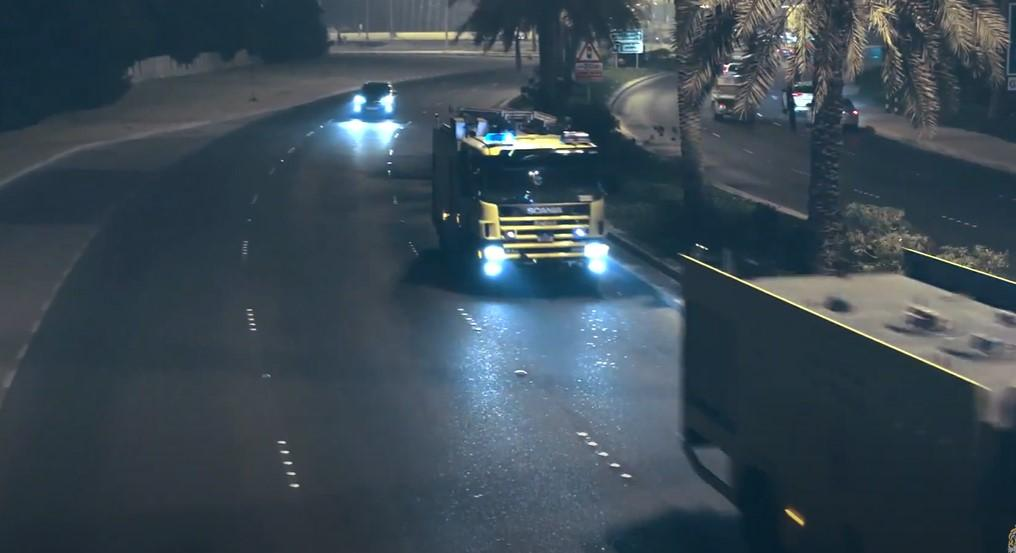firetruck_on: (429, 107, 612, 292)
